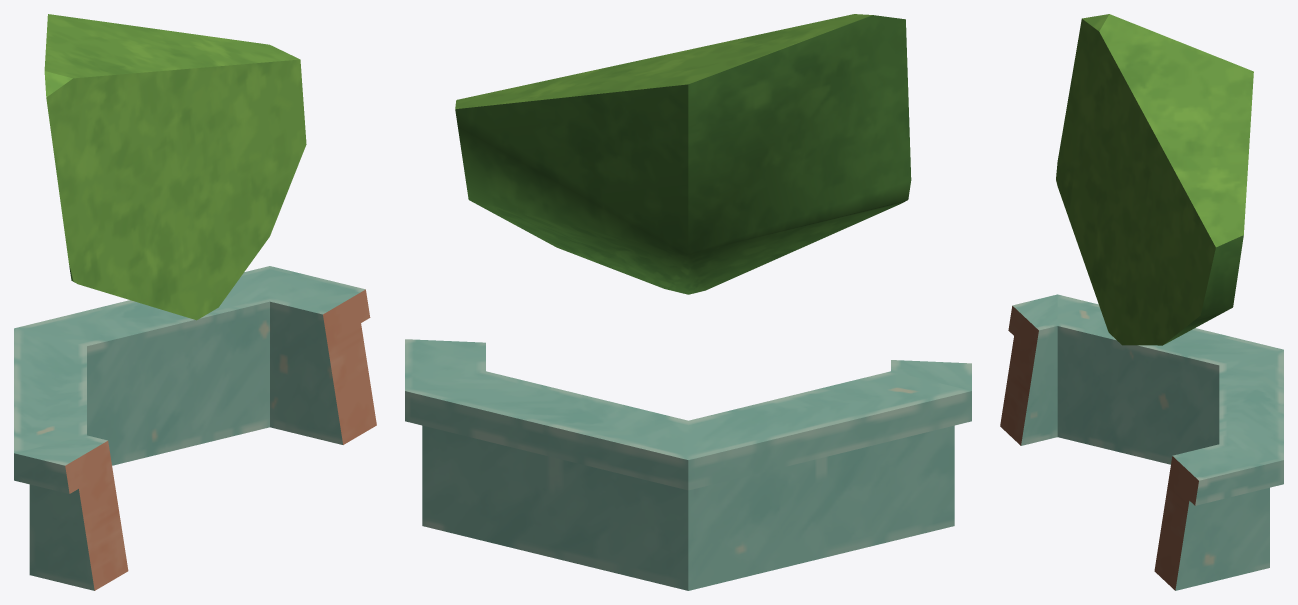
File: cypress_s02.fbx
The picture shows the model from 3 angles, left to right: view 1: azimuth 30°, elevation 25°; view 2: azimuth 150°, elevation 25°; view 3: azimuth 270°, elevation 25°; orthographic projection. The views are drawn at different scales.
Parts seen in each view (by area): view 1: cypress_s02; view 2: cypress_s02; view 3: cypress_s02.
Part boxes in pixels (bbox=[...]): cypress_s02: bbox=[14, 14, 376, 590]; cypress_s02: bbox=[405, 14, 971, 590]; cypress_s02: bbox=[1000, 14, 1283, 590].
Size of the model in its own units: 4.16 by 4.32 by 2.66.
